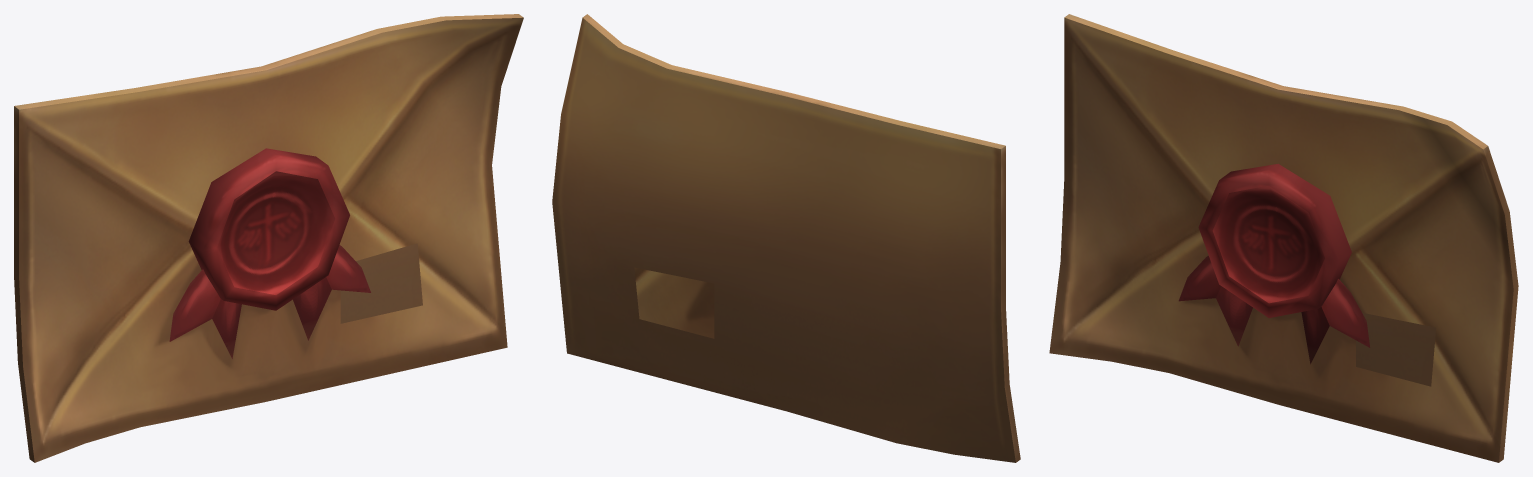
The model's file is 06_letter.FBX.
3 views of the same model, side by side, from view 1: azimuth 30°, elevation 25°; view 2: azimuth 150°, elevation 25°; view 3: azimuth 330°, elevation 25° (orthographic). The views are drawn at different scales.
Parts seen in each view (by area): view 1: 06_letter; view 2: 06_letter; view 3: 06_letter.
Part boxes in pixels (x1,y1,x2,y2): 06_letter: [14, 14, 523, 462]; 06_letter: [552, 14, 1020, 462]; 06_letter: [1049, 14, 1518, 462].
Size of the model in its own units: 48.47 by 33.48 by 6.58.
